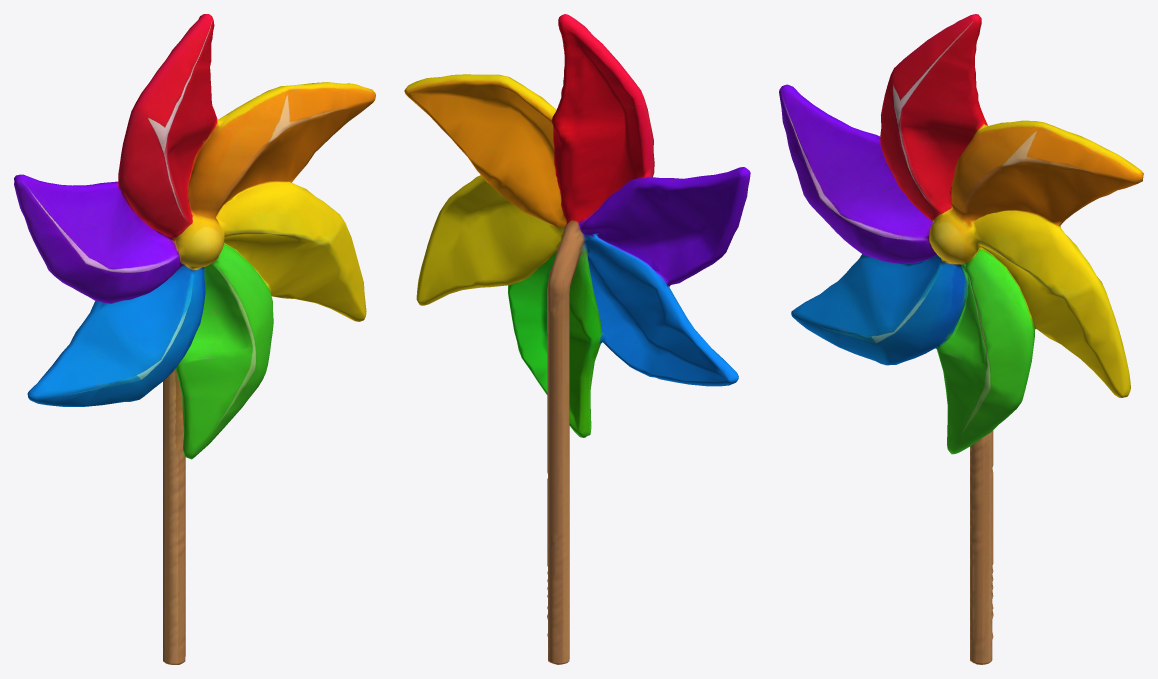
File: prop-pinwheel.glb
3 renders of one model, left to right at view 1: azimuth 30°, elevation 25°; view 2: azimuth 150°, elevation 25°; view 3: azimuth 330°, elevation 25°, orthographic. The views are drawn at different scales.
Size of the model in its own units: 1.09 by 1.91 by 0.227.
Materials: 1 (1 with a texture image).
